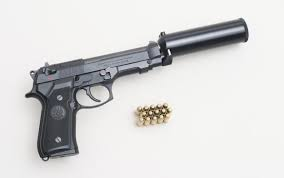gun: (21, 13, 255, 164)
